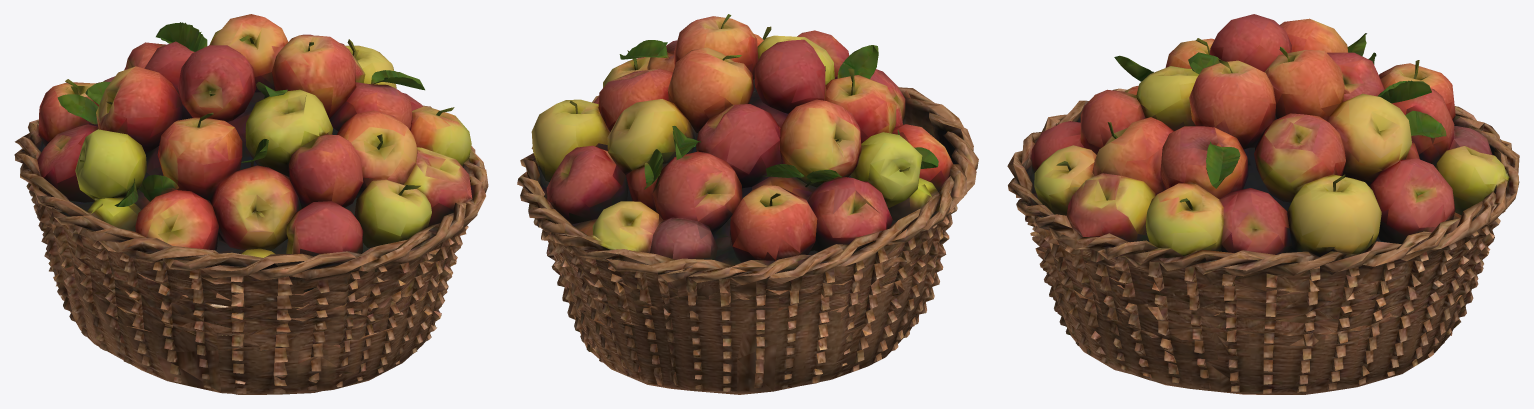
File: basket.glb
3 views of the same model, side by side, from view 1: azimuth 30°, elevation 25°; view 2: azimuth 150°, elevation 25°; view 3: azimuth 270°, elevation 25° (orthographic). The views are drawn at different scales.
Visible parts, largest first — view 1: basket; view 2: basket; view 3: basket.
Part boxes in pixels (x1,y1,x2,y2): basket: (14,14,488,394); basket: (517,14,978,394); basket: (1007,14,1519,394).
Size of the model in its own units: 0.4424 by 0.3222 by 0.5.
1 material, 1 textured.
